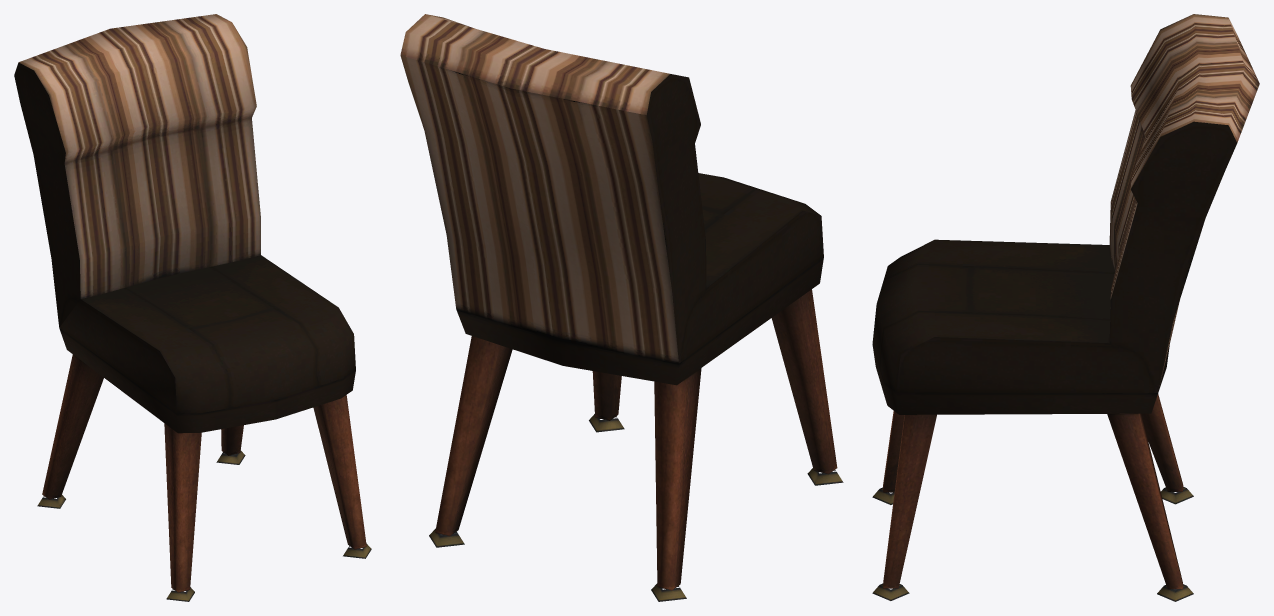
The model's file is dub_lounge_chair_03_lod2.glb.
The picture shows the model from 3 angles, left to right: view 1: azimuth 30°, elevation 25°; view 2: azimuth 150°, elevation 25°; view 3: azimuth 270°, elevation 25°; orthographic projection. The views are drawn at different scales.
Parts seen in each view (by area): view 1: surf0; view 2: surf0; view 3: surf0.
Part boxes in pixels (left/top/right/bottom): surf0: left=14, top=14, right=371, bottom=601; surf0: left=400, top=14, right=843, bottom=601; surf0: left=872, top=14, right=1259, bottom=601.
Bounding box in the file's own units: 23.38 × 46.02 × 33.79.
